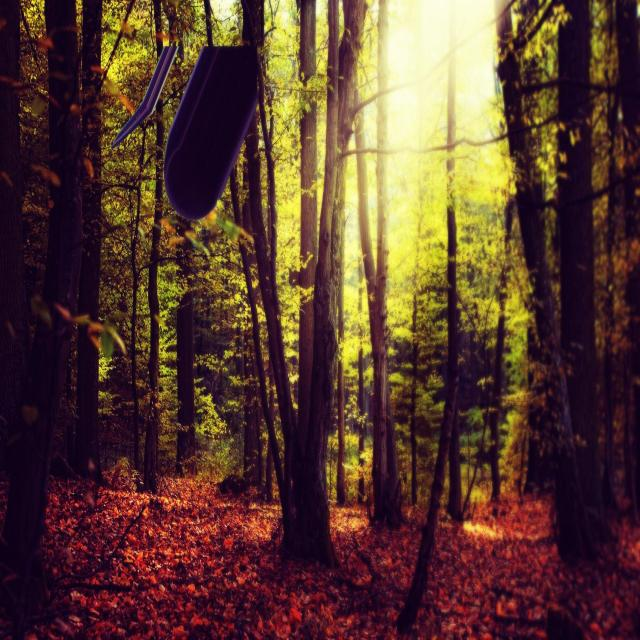airplane: (110, 45, 258, 223)
